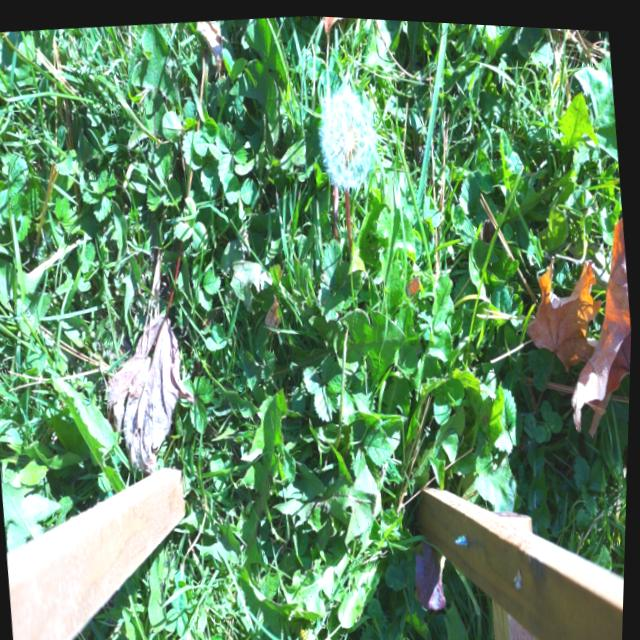base: (326, 213, 348, 248), (341, 225, 361, 253)
flower: (313, 78, 380, 187), (292, 619, 341, 640)
